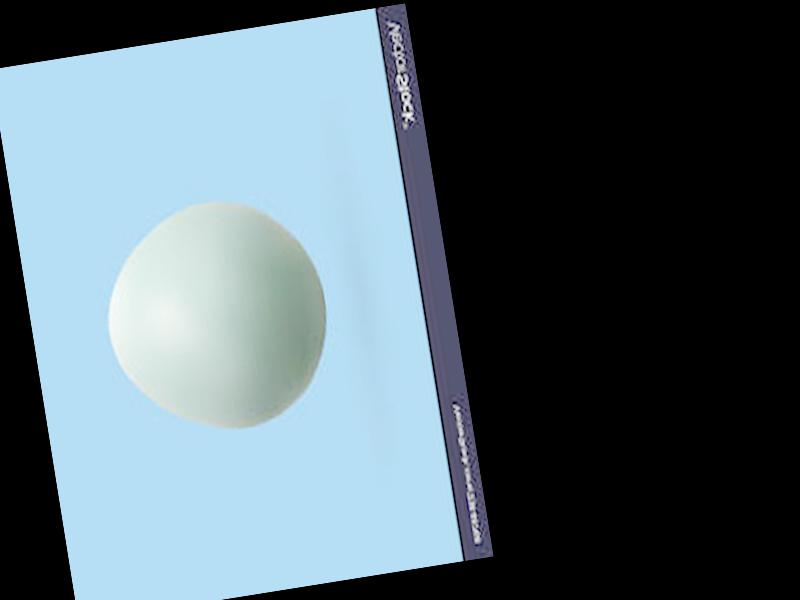Eggs: (91, 187, 341, 449)
